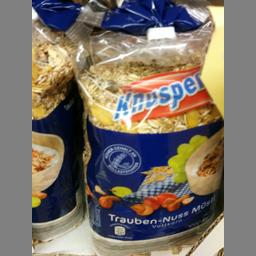cereal: (72, 26, 224, 250)
